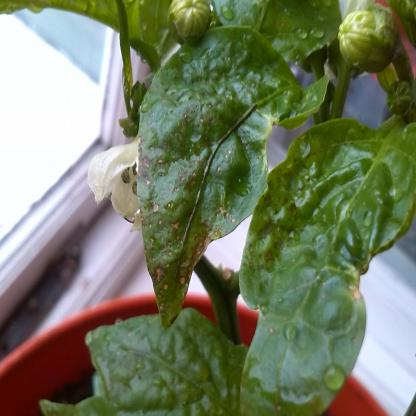bell pepper leaf spot: (122, 25, 319, 340), (237, 121, 413, 416)
